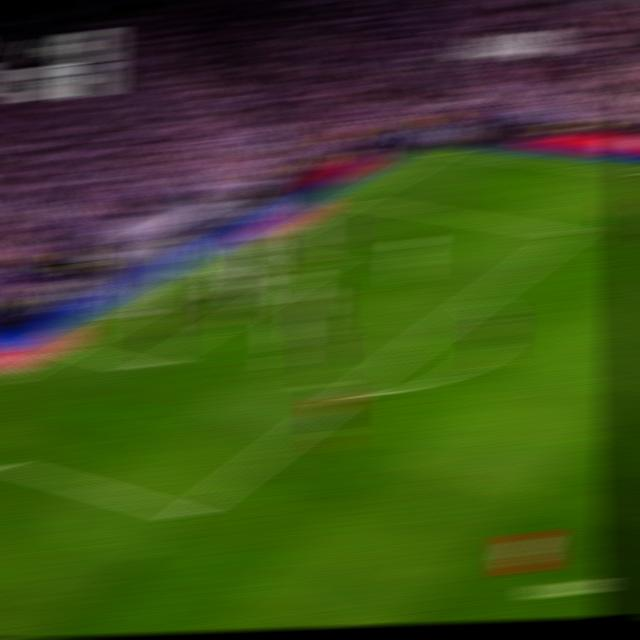bigarea_bottom_inner: (170, 500, 204, 529)
bigarea_top_inner: (556, 225, 585, 241)
bigarea_top_outter: (338, 193, 366, 206)
bottom_arc_area_intersection: (331, 383, 364, 407)
corner: (429, 145, 457, 155)
smallarea_bottom_inner: (133, 358, 162, 377)
smallarea_bottom_outter: (54, 340, 84, 357)
top_arc_area_intersection: (464, 289, 495, 308)
